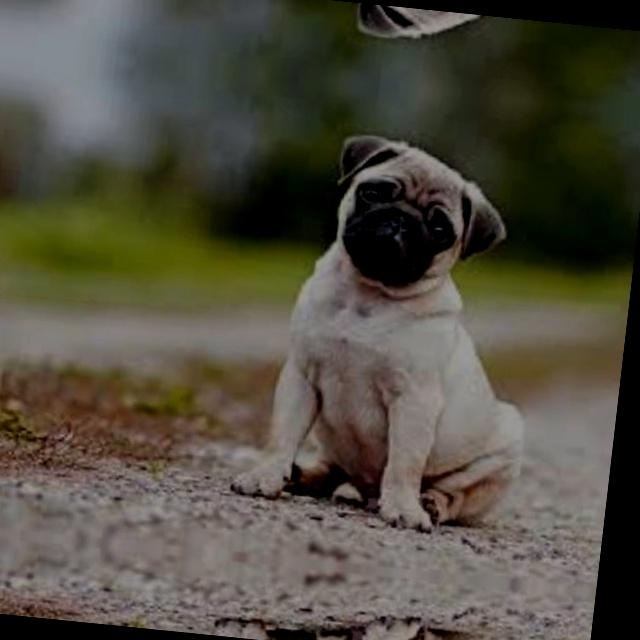dog: (225, 105, 567, 531), (276, 0, 580, 75), (209, 607, 509, 640)
